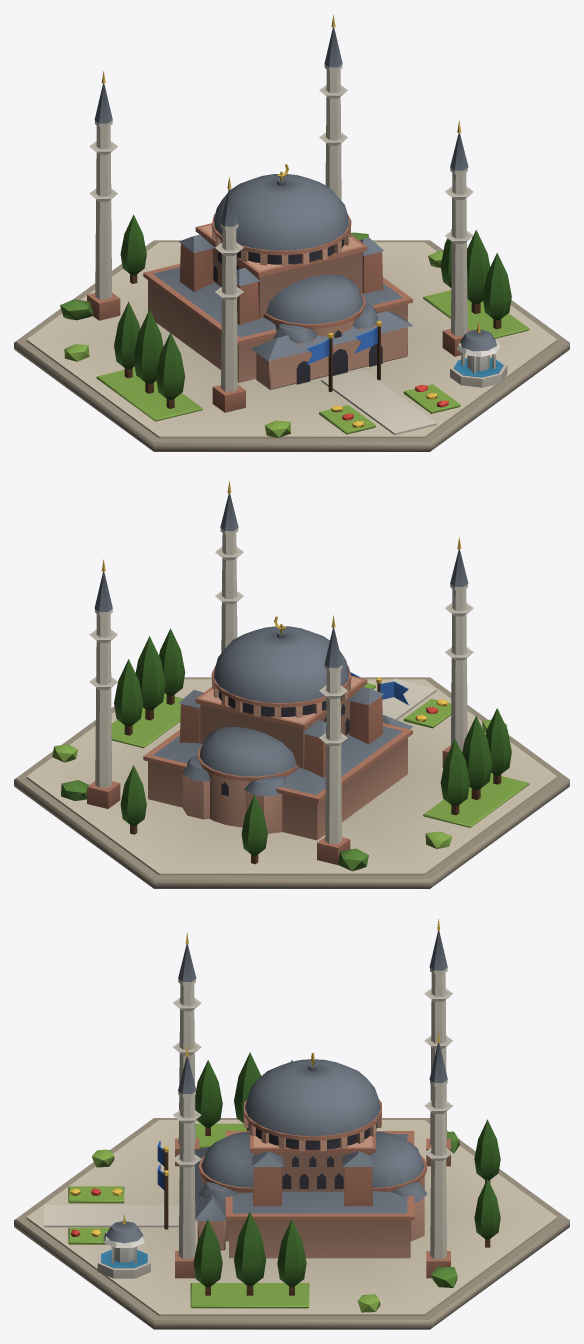
File: w_hagia_sophia.glb
3 renders of one model, top to bottom at view 1: azimuth 30°, elevation 25°; view 2: azimuth 150°, elevation 25°; view 3: azimuth 270°, elevation 25°, orthographic.
Parts seen in each view (by area): view 1: w_hagia_sophia; view 2: w_hagia_sophia; view 3: w_hagia_sophia.
Boxes of the visible parts, <box> form: w_hagia_sophia: <box>14,15,569,451</box>; w_hagia_sophia: <box>14,480,569,888</box>; w_hagia_sophia: <box>14,919,569,1329</box>.
Bounding box in the file's own units: 1.39 × 0.8056 × 1.59.
